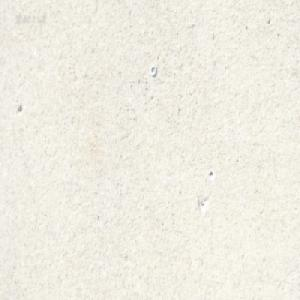Washer: (150, 64, 156, 77)
